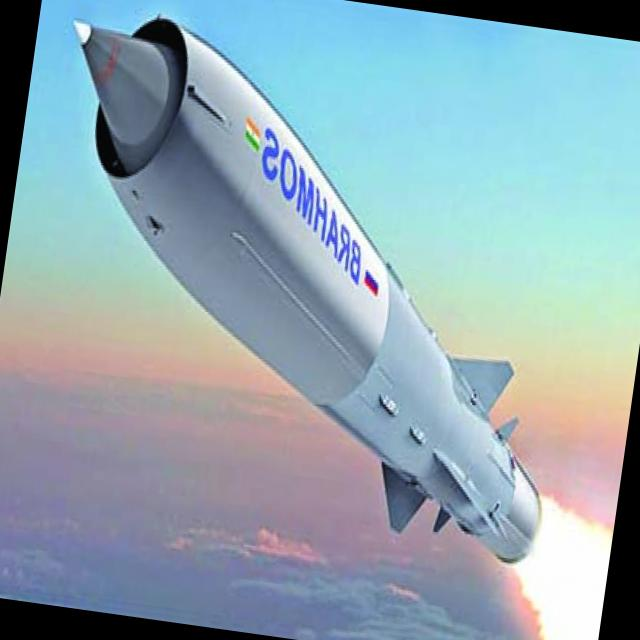rocket: (3, 19, 640, 614)
